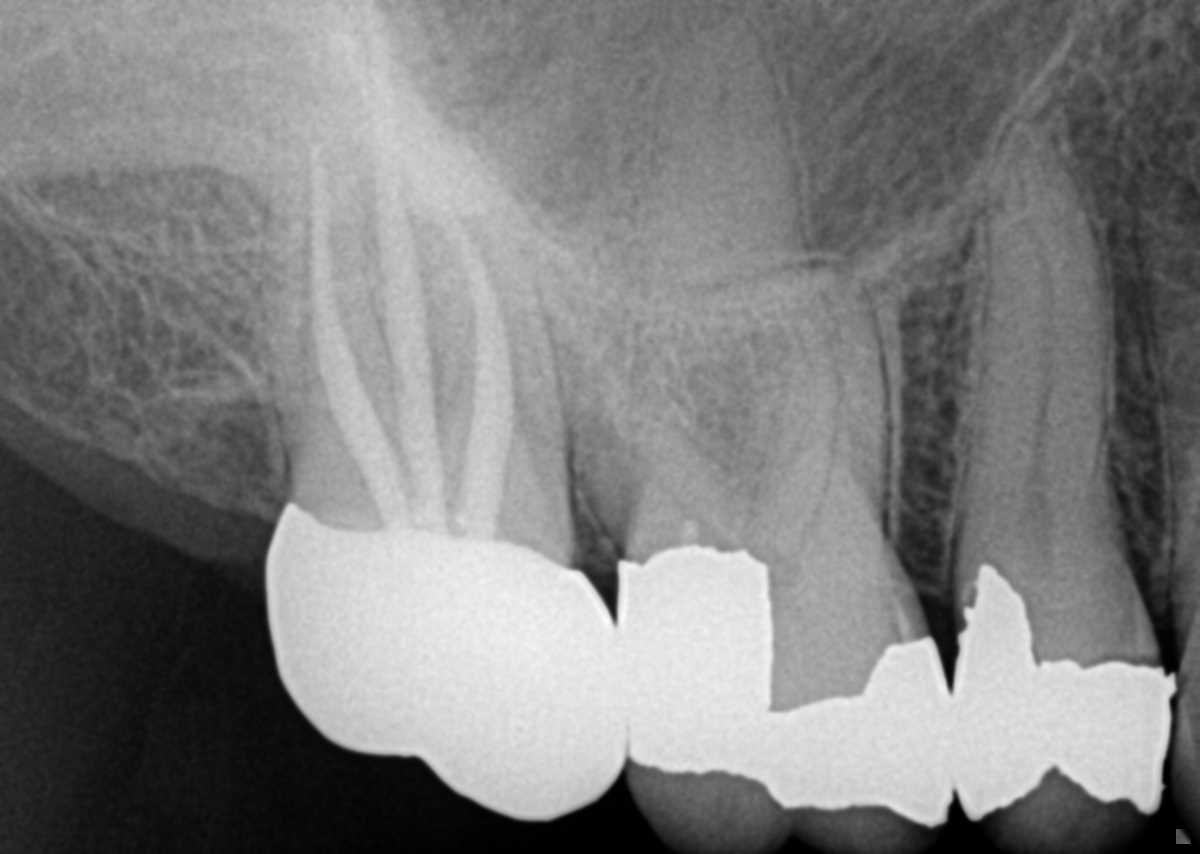Distal Root: (535, 225, 743, 548), (261, 98, 420, 470)
Main Canal: (1016, 150, 1057, 590)
Main Root: (948, 104, 1118, 550), (1138, 169, 1200, 589)
Mesial Root: (323, 25, 573, 508), (741, 265, 892, 540)
Palatal Root: (295, 0, 544, 496), (622, 18, 848, 531)
Root Canal Filling: (369, 16, 448, 530), (310, 144, 409, 524)
